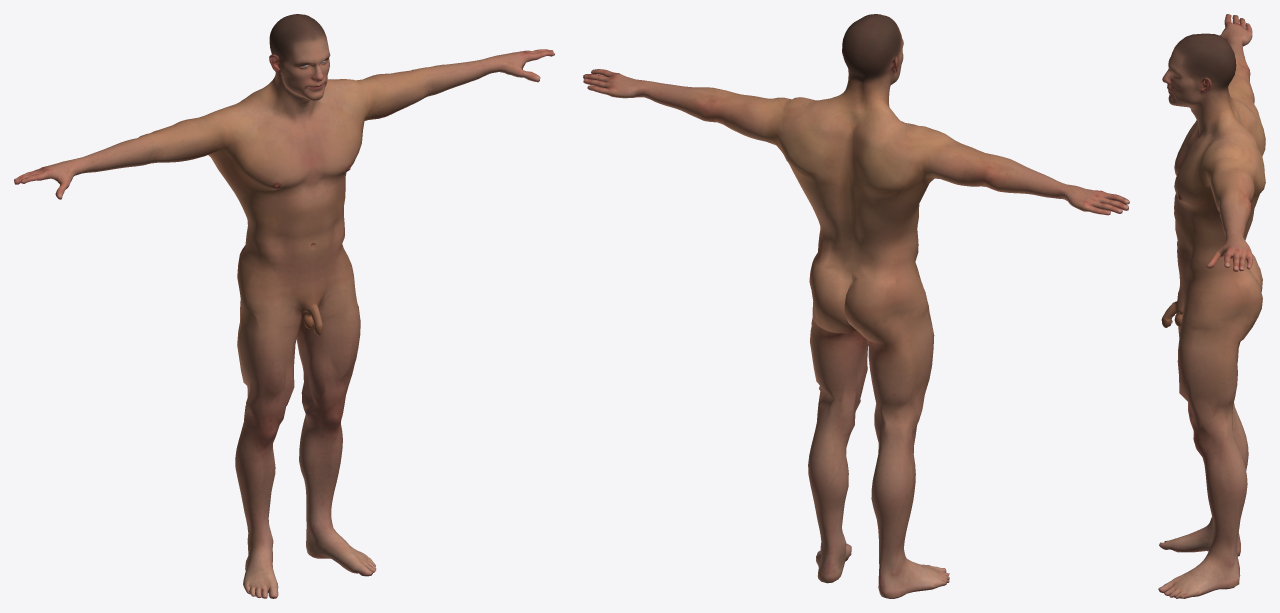
File: T pose.fbx
The picture shows the model from 3 angles, left to right: view 1: azimuth 30°, elevation 25°; view 2: azimuth 150°, elevation 25°; view 3: azimuth 270°, elevation 25°; orthographic projection. The views are drawn at different scales.
Visible parts, largest first — view 1: body; view 2: body; view 3: body.
Part boxes in pixels (left/top/right/bottom): body: left=14, top=14, right=554, bottom=598; body: left=583, top=14, right=1129, bottom=598; body: left=1158, top=14, right=1265, bottom=598.
Bounding box in the file's own units: 18.88 × 18.58 × 3.39.
